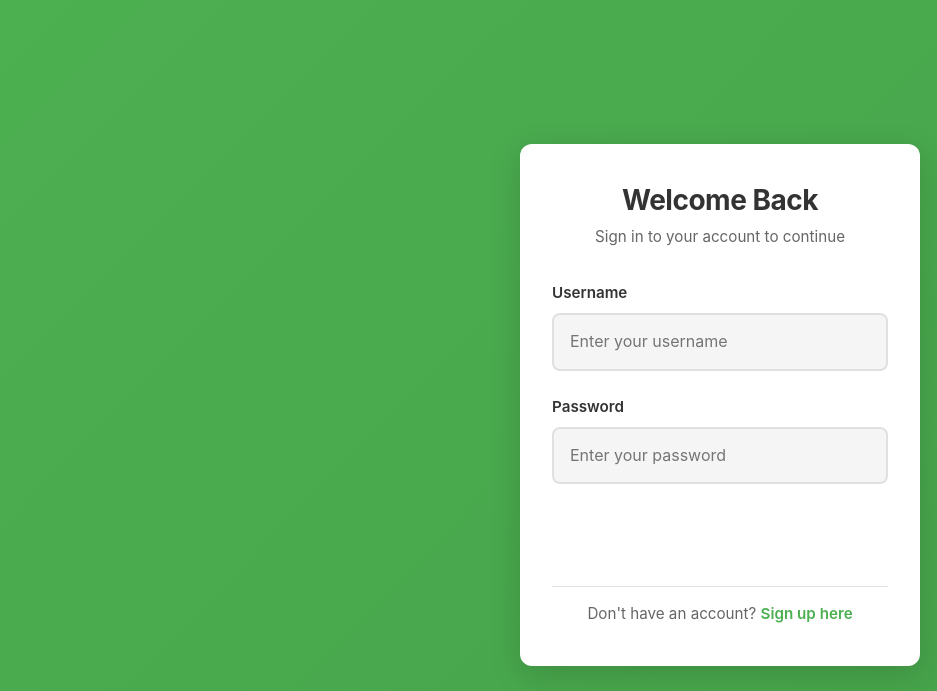
LoginPage.vue › 5.1.3 Loading state and disable submit button › should enable submit button when form is valid
The width and height of the screenshot is (937, 691).
Type "testuser" into the field with id "username" at coordinates (720, 342), box [552,313,888,370]
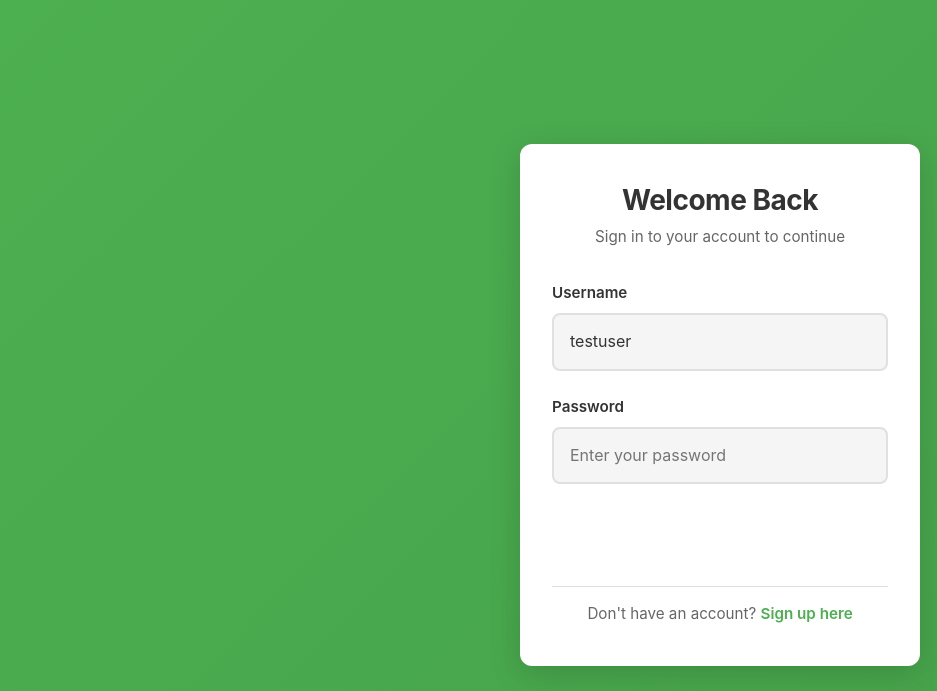
Type "password123" into the password field labelled "Password" at coordinates (720, 456), box [552,427,888,484]
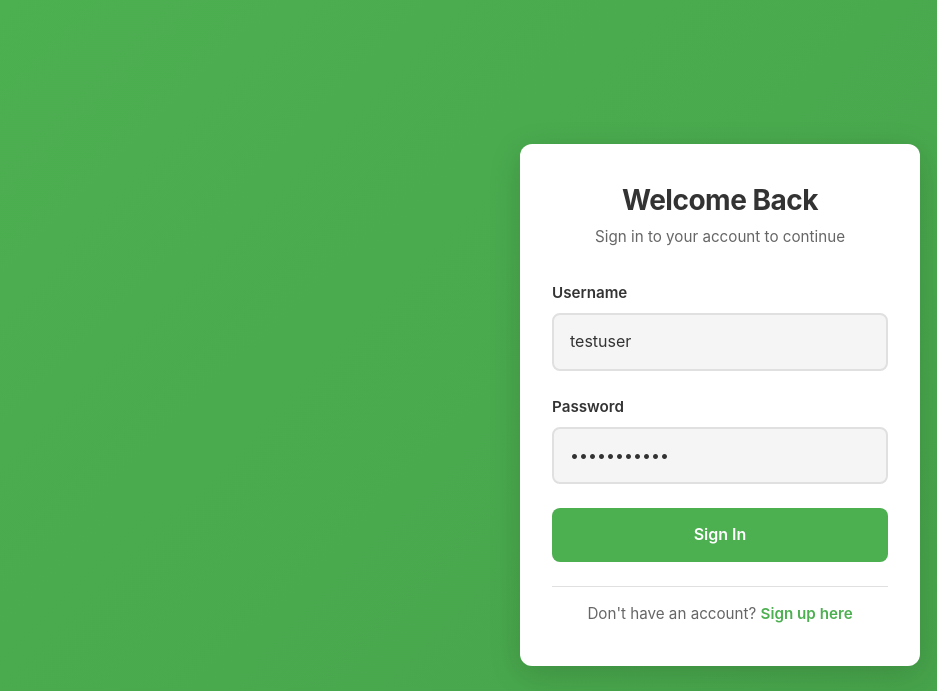
Now the button with class "submit-button" is enabled, box [552,508,888,562]
